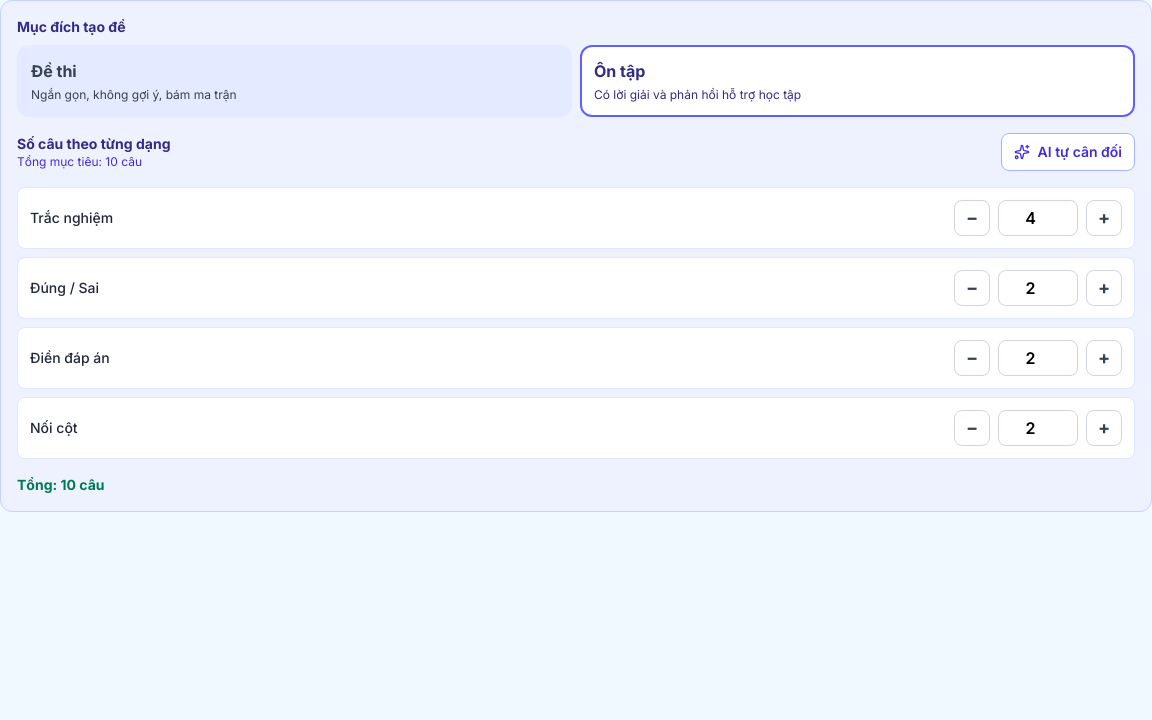
Test: QuestionBlueprintSection › shows a blocking message when type totals do not match
Replace the text in the number field named "Số câu Trắc nghiệm" with "9". click: (1038, 218)
box: [998,200,1078,236]
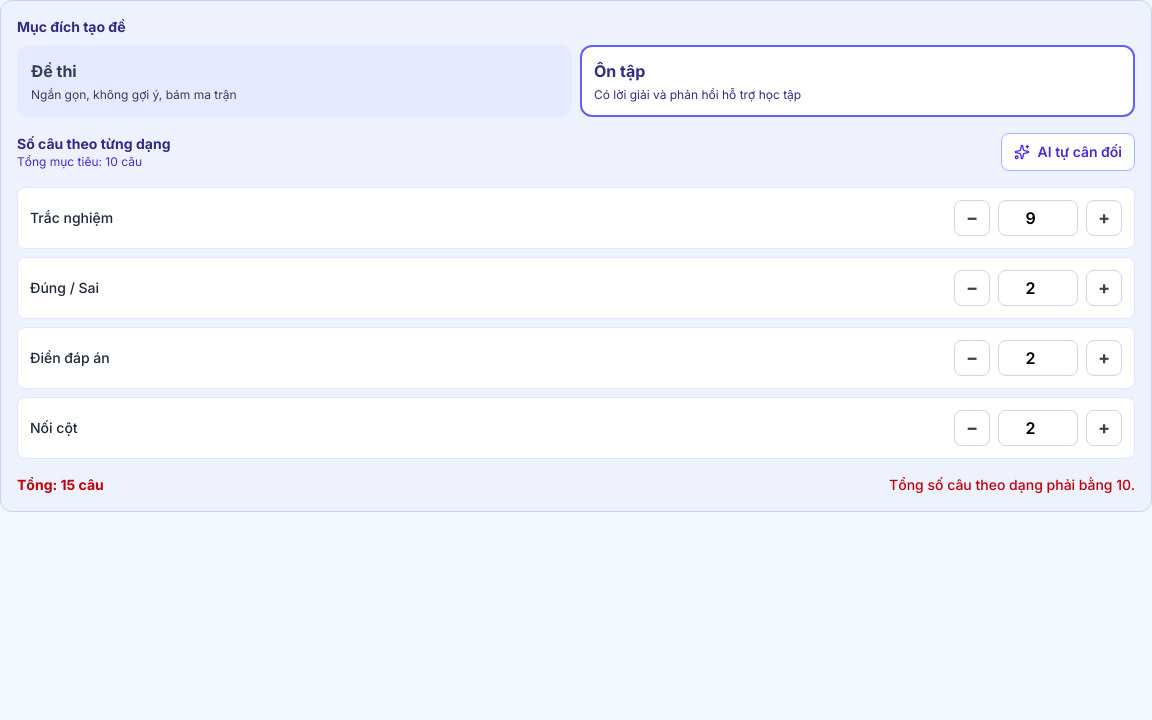
Expected: the text "Tổng số câu theo dạng phải bằng 10." is shown, [889,475,1135,495]
